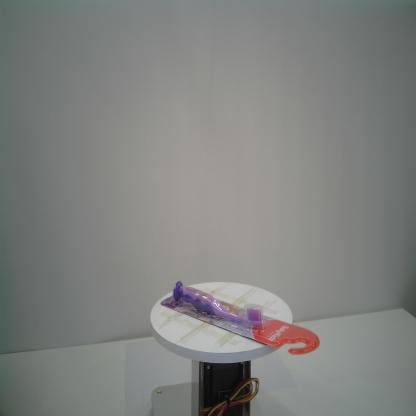Personal Hygiene: (160, 280, 320, 356)
